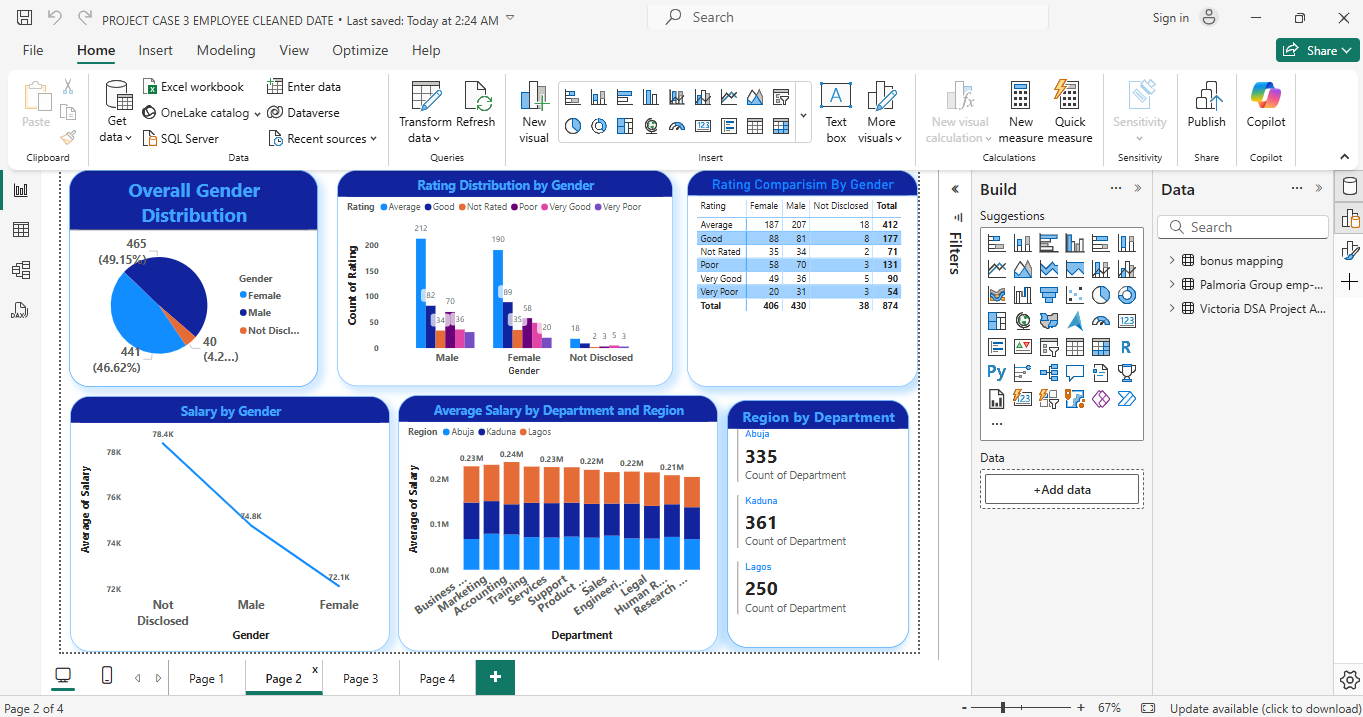

What the dashboard file says about the page in this screenshot:
{"tool":"powerbi","page":{"name":"Page 2","canvas":[1280,720],"ordinal":1},"visuals":[{"type":"pivotTable","title":"Rating Comparisim By Gender","fields":{"Rows":["Victoria DSA Project Analysis Case #.Rating"],"Columns":["Victoria DSA Project Analysis Case #.Gender"],"Values":["Count(Victoria DSA Project Analysis Case #.Employee)"]},"box":[935,0,345,323.6],"z":0},{"type":"lineClusteredColumnComboChart","title":" Rating Distribution by Gender","fields":{"Category":["Victoria DSA Project Analysis Case #.Gender"],"Series":["Victoria DSA Project Analysis Case #.Rating"],"Y":["CountNonNull(Victoria DSA Project Analysis Case #.Rating)"]},"box":[411.7,0,501.7,323.3],"z":1000},{"type":"pieChart","title":"Overall Gender Distribution","fields":{"Category":["Victoria DSA Project Analysis Case #.Gender"],"Y":["CountNonNull(Victoria DSA Project Analysis Case #.Department)"]},"box":[12.5,0,371.8,323.6],"z":2000},{"type":"lineChart","title":"Salary by Gender","fields":{"Category":["Victoria DSA Project Analysis Case #.Gender"],"Y":["Avg(Victoria DSA Project Analysis Case #.Salary)"]},"box":[13.3,338.3,478.3,381.7],"z":3000},{"type":"multiRowCard","title":"Region by Department","fields":{"Values":["Victoria DSA Project Analysis Case #.Region","Victoria DSA Project Analysis Case #.Department"]},"box":[995,343.3,271.7,370],"z":4000},{"type":"columnChart","title":"Average Salary by Department and Region","fields":{"Category":["Victoria DSA Project Analysis Case #.Department"],"Y":["Avg(Victoria DSA Project Analysis Case #.Salary)"],"Series":["Victoria DSA Project Analysis Case #.Region"]},"box":[503.3,336.7,478.3,383.3],"z":5000}]}

Visuals, with their boxes on the page's 1280x720 design canvas (x1, y1, x2, y2). These are canvas units, not pixel positions in the 1363x717 screenshot, which may show the page scaled, cropped or inside an application window:
"Rating Comparisim By Gender" pivotTable: 935/0/1280/324
" Rating Distribution by Gender" lineClusteredColumnComboChart: 412/0/913/323
"Overall Gender Distribution" pieChart: 12/0/384/324
"Salary by Gender" lineChart: 13/338/492/720
"Region by Department" multiRowCard: 995/343/1267/713
"Average Salary by Department and Region" columnChart: 503/337/982/720
